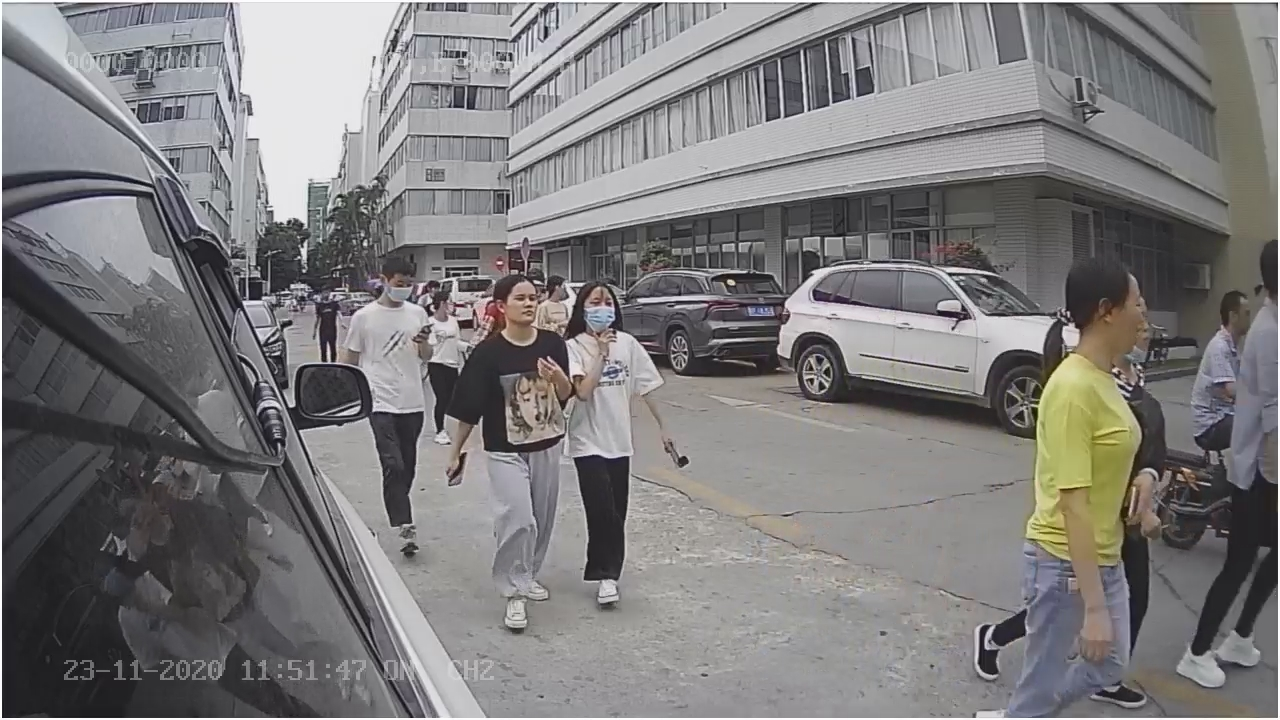person: (446, 273, 573, 633)
